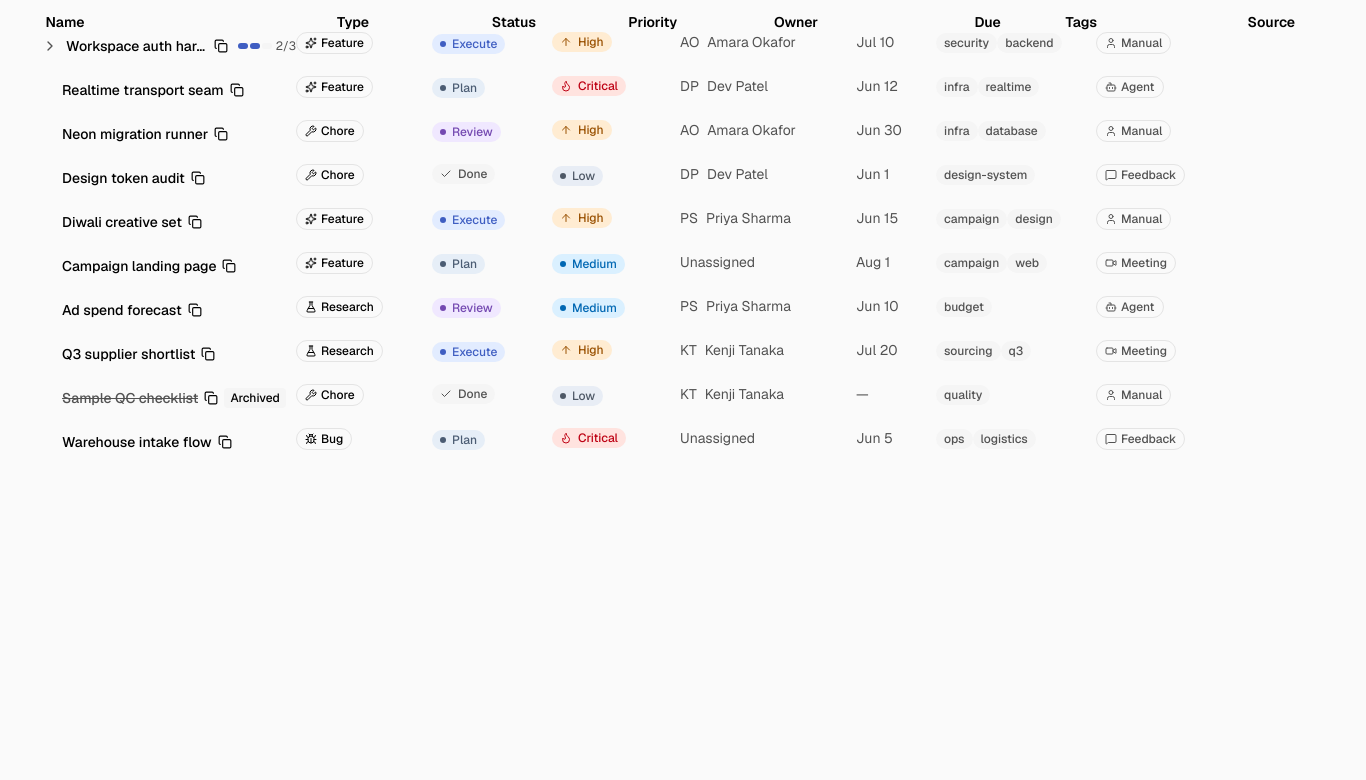
Test: WorkboardTable — task nesting (tasks display option) › gives a nested child a sub-task connector treatment that a top-level row lacks
expect the row with test id "work-item-row" that starts with "Workspace auth hardening" is shown: met, box [0, 32, 1200, 60]
Expand to reveal the children.
Click the button named "show sub-tasks of Workspace auth hardening". click: point(50, 46)
box: [40, 36, 60, 56]
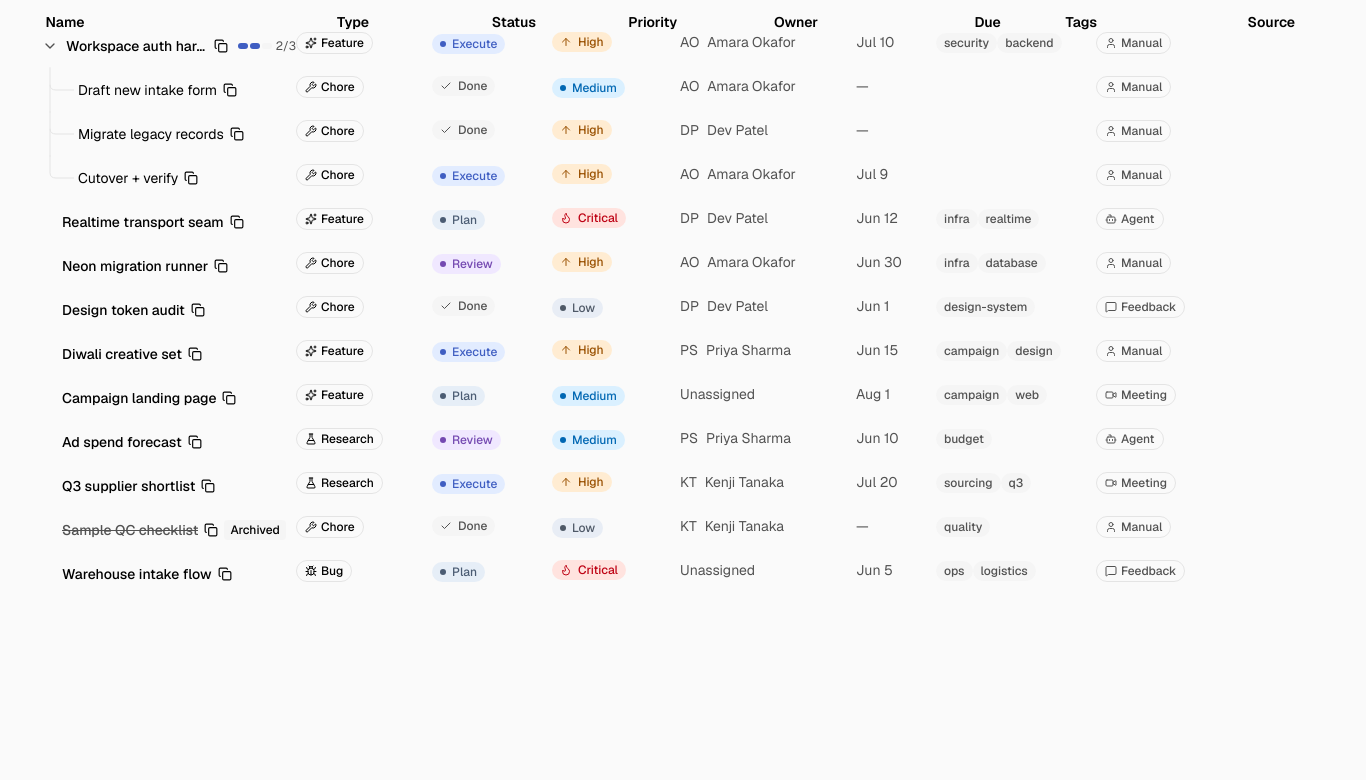
expect the element showing "Draft new intake form" is shown: met, box [40, 76, 237, 104]
